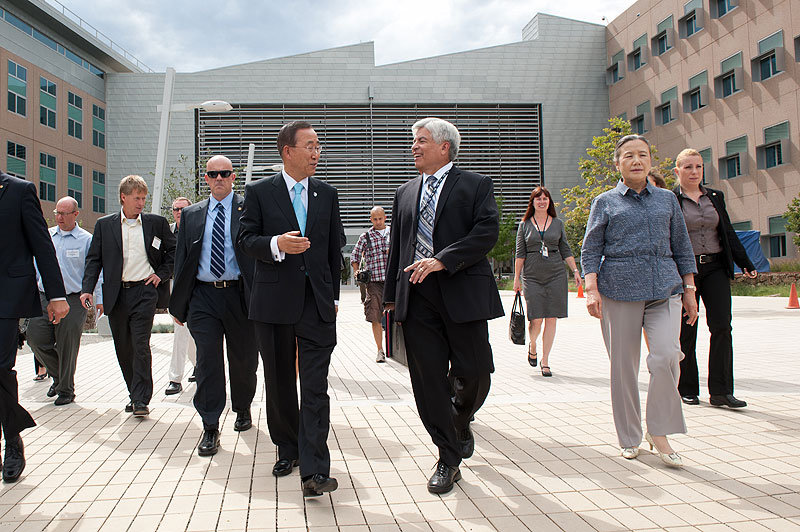feet: (418, 405, 492, 496), (262, 430, 343, 504), (605, 403, 687, 470), (187, 398, 256, 458), (678, 370, 750, 410), (1, 405, 35, 483), (519, 336, 565, 382), (40, 363, 85, 409), (121, 378, 159, 423), (162, 358, 203, 396), (371, 340, 399, 362)
